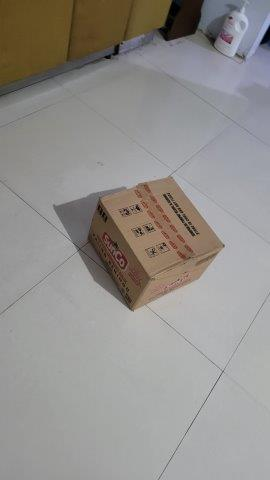kardus: (87, 178, 226, 313)
